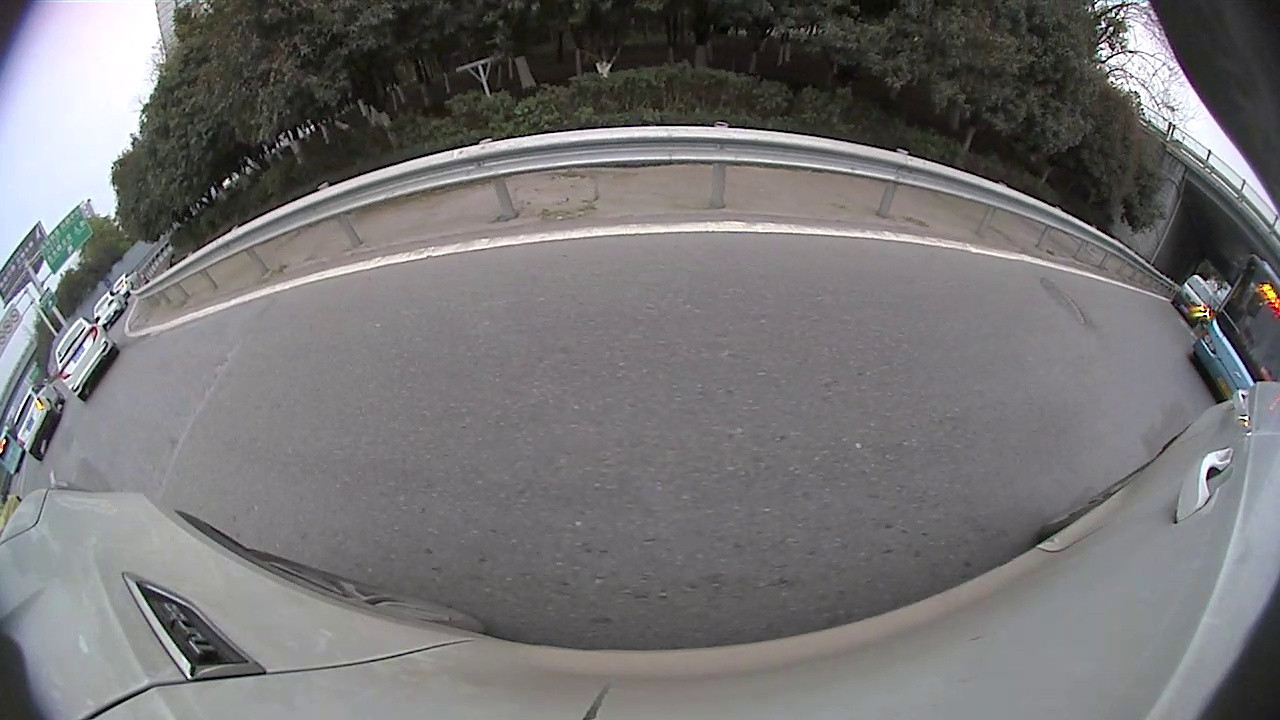bus: (1192, 253, 1279, 409)
car: (51, 313, 121, 403), (12, 380, 67, 462), (1169, 271, 1219, 324)
